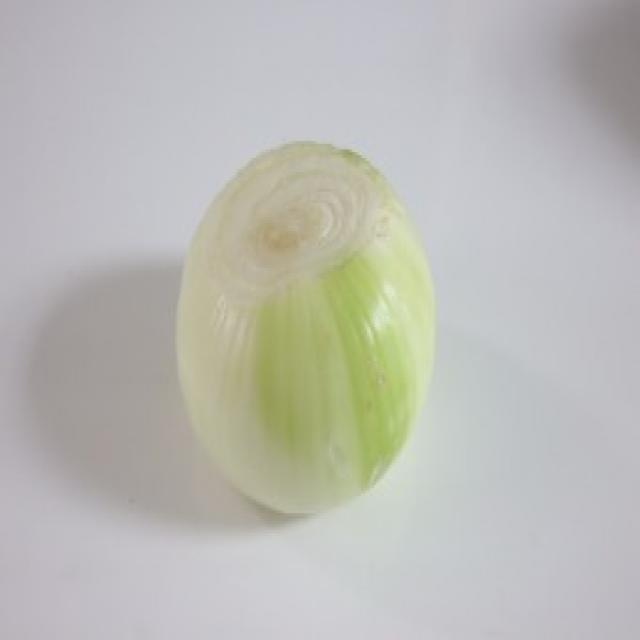onion: (156, 127, 450, 546)
